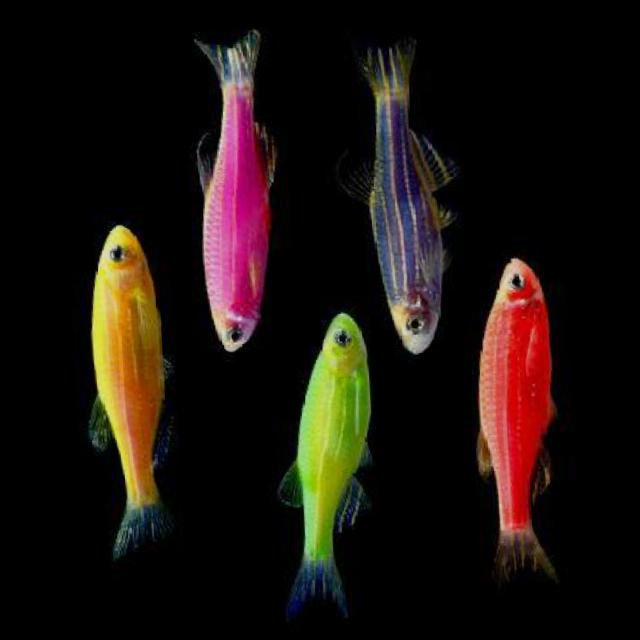ZebraFish: (321, 21, 469, 358), (260, 312, 387, 630), (71, 213, 187, 561), (174, 21, 286, 354), (457, 252, 566, 586)
